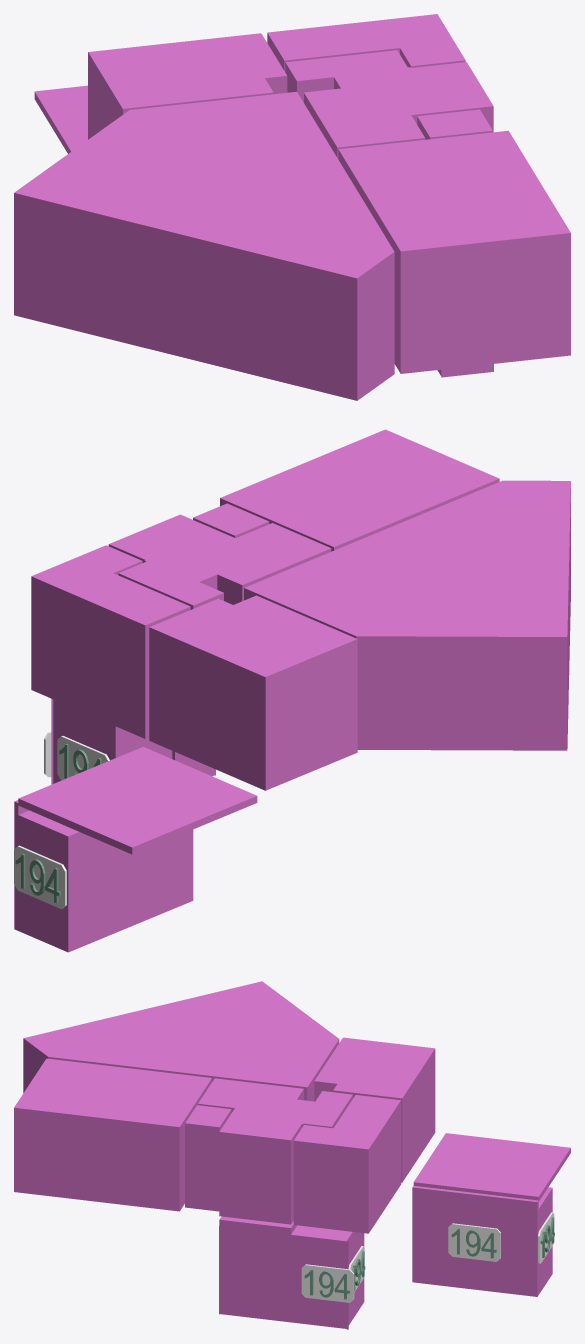
3 renders of one model, top to bottom at view 1: azimuth 30°, elevation 25°; view 2: azimuth 150°, elevation 25°; view 3: azimuth 270°, elevation 25°, orthographic. The views are drawn at different scales.
Visible parts, largest first — view 1: g_2, g_3, g_7, g_4, g_6, g_8, g_10, g_5; view 2: g_2, g_7, g_6, g_3, g_1, g_10, g_4, g_0, g_8, g_14, g_5, g_22; view 3: g_3, g_2, g_6, g_1, g_9, g_7, g_8, g_10, g_4, g_5, g_0, g_18 (+1 smaller).
Boxes of the visible parts, x1,y1,x2,y2 form: g_2: (14,91,394,400); g_3: (338,130,570,373); g_7: (88,33,287,139); g_4: (285,50,435,158); g_6: (267,14,465,71); g_8: (412,62,493,132); g_10: (34,85,87,153); g_5: (417,109,492,139); g_2: (244,480,570,750); g_7: (149,595,357,790); g_6: (31,545,190,738); g_3: (220,429,499,551); g_1: (14,800,193,952); g_10: (18,746,257,854); g_4: (118,523,331,609); g_0: (51,698,172,784); g_8: (108,514,218,562); g_14: (14,845,66,909); g_5: (193,503,269,537); g_22: (57,736,109,780); g_3: (14,1058,211,1211); g_2: (23,981,339,1101); g_6: (293,1095,401,1233); g_1: (412,1185,552,1296); g_9: (219,1216,313,1324); g_7: (314,1037,435,1182); g_8: (219,1115,301,1224); g_10: (413,1133,570,1201); g_4: (198,1078,352,1128); g_5: (185,1105,231,1211); g_0: (307,1227,364,1329); g_18: (301,1264,354,1302).
Size of the model in its own units: 10.27 by 5.2 by 14.37.
